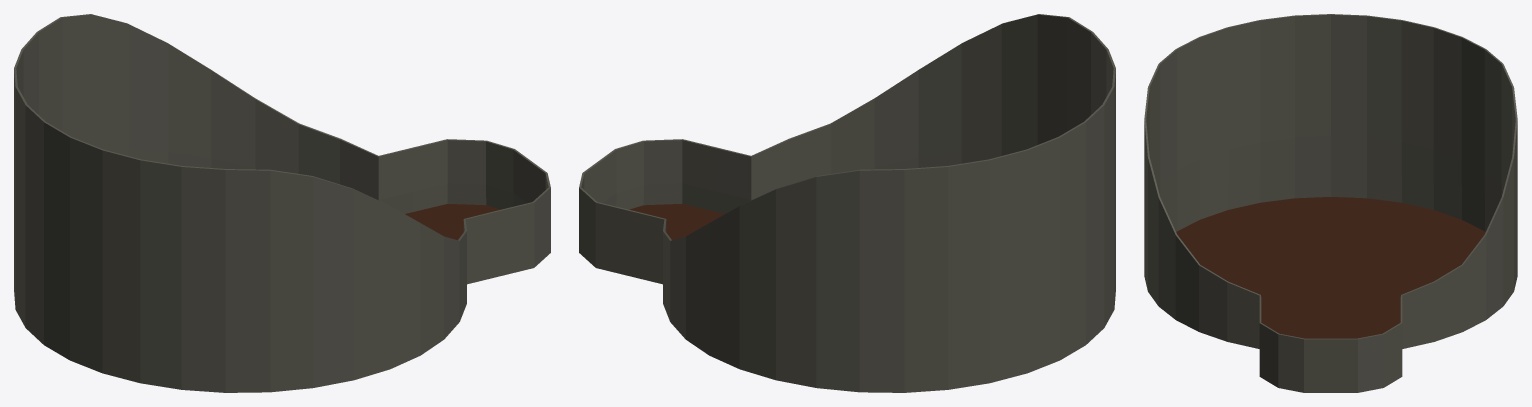
The model's file is Floor.fbx.
3 views of the same model, side by side, from view 1: azimuth 30°, elevation 25°; view 2: azimuth 150°, elevation 25°; view 3: azimuth 270°, elevation 25° (orthographic). The views are drawn at different scales.
Visible parts, largest first — view 1: Floor; view 2: Floor; view 3: Floor.
Part boxes in pixels (bbox=[...]): Floor: bbox=[14, 14, 550, 392]; Floor: bbox=[579, 14, 1115, 392]; Floor: bbox=[1144, 14, 1517, 392].
Size of the model in its own units: 5586 by 2443 by 4506.
